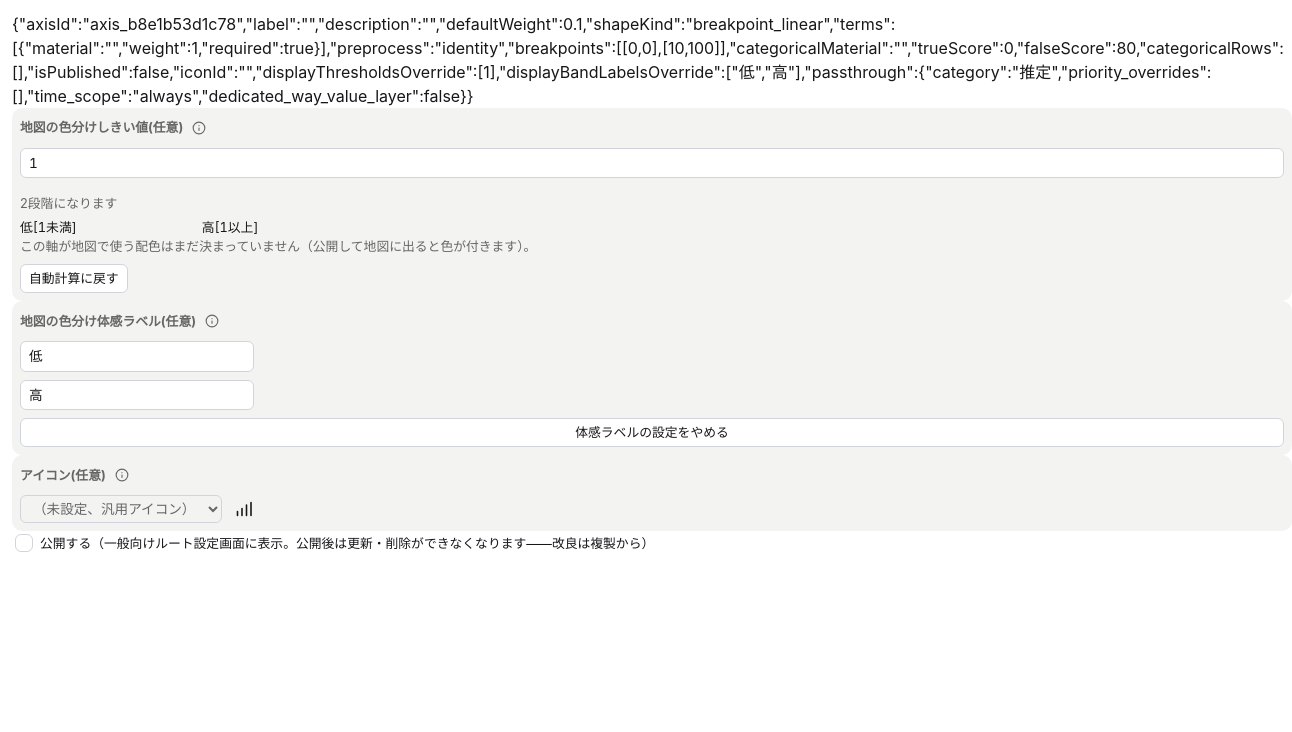
Test: 色分けしきい値 › 「自動計算に戻す」で、しきい値と体感ラベルの上書きを両方外し、誤りも消す
Type "x" into the field named "色分けのしきい値（まとめて入力）" at (652, 163), box left=20, top=148, right=1284, bottom=178
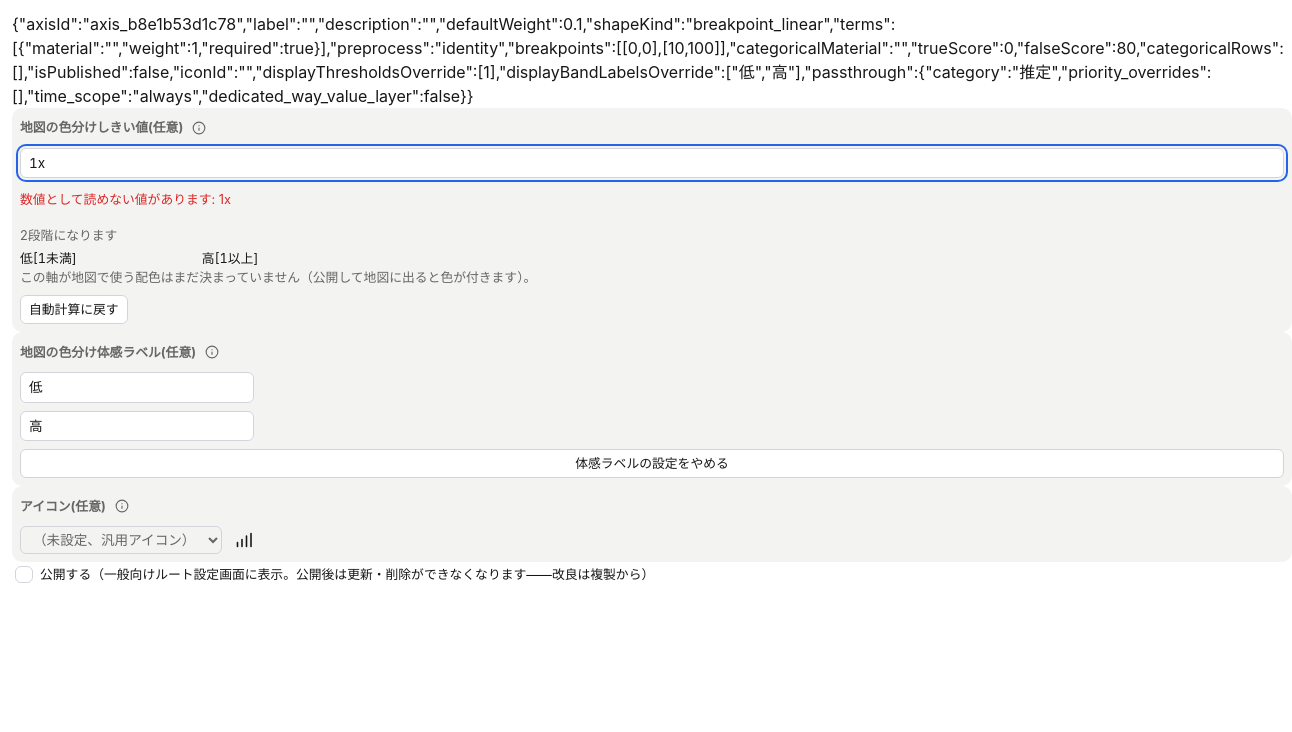
Click the button "自動計算に戻す" at (74, 310), box left=20, top=295, right=128, bottom=324
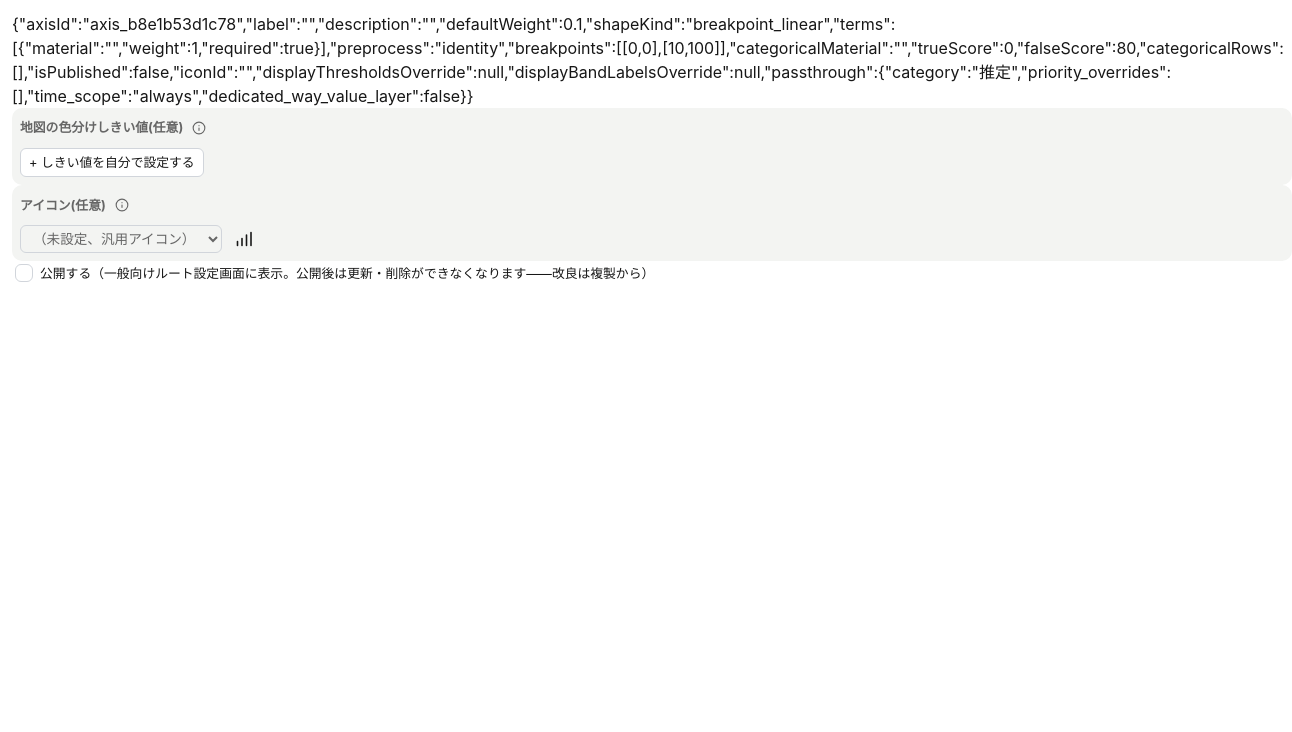
Now the button "+ しきい値を自分で設定する" is shown, box left=20, top=148, right=204, bottom=177
